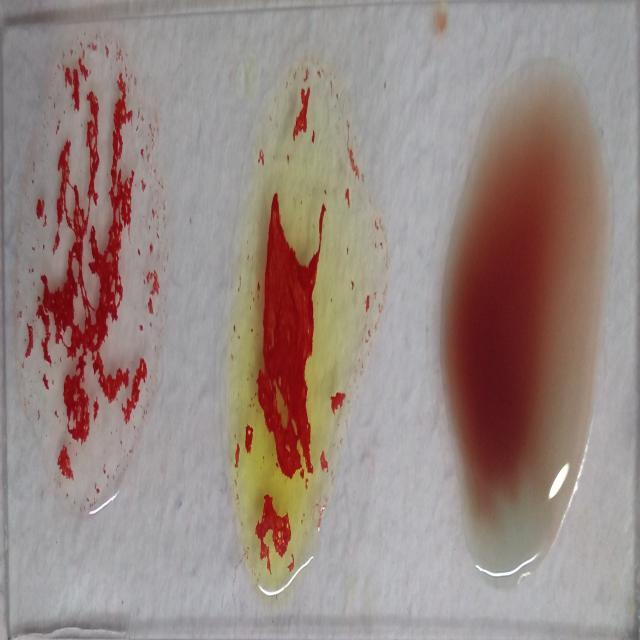B: (232, 62, 363, 597)
D: (18, 42, 168, 534)
